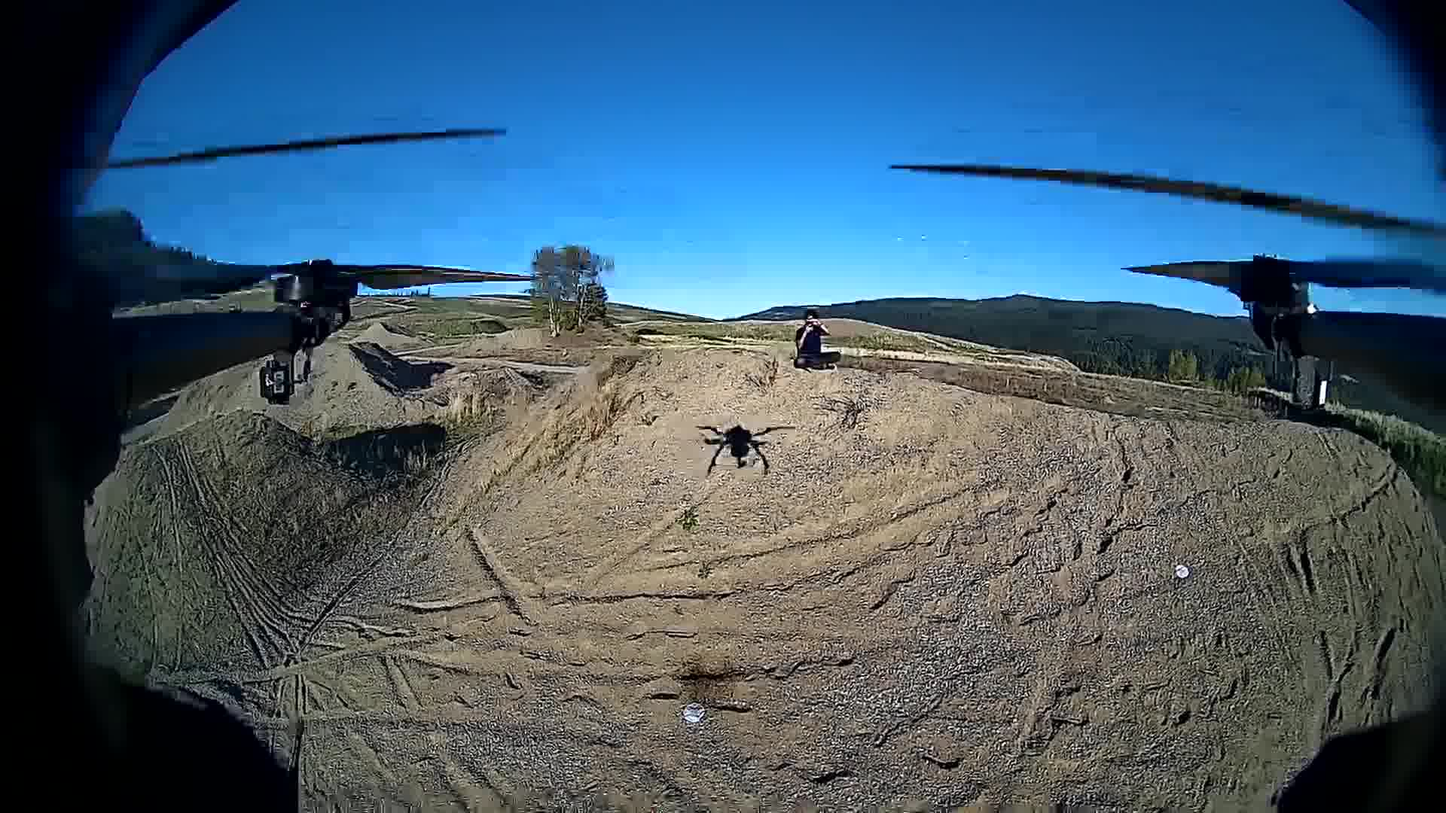Target: (681, 704, 704, 722), (1174, 563, 1189, 579)
